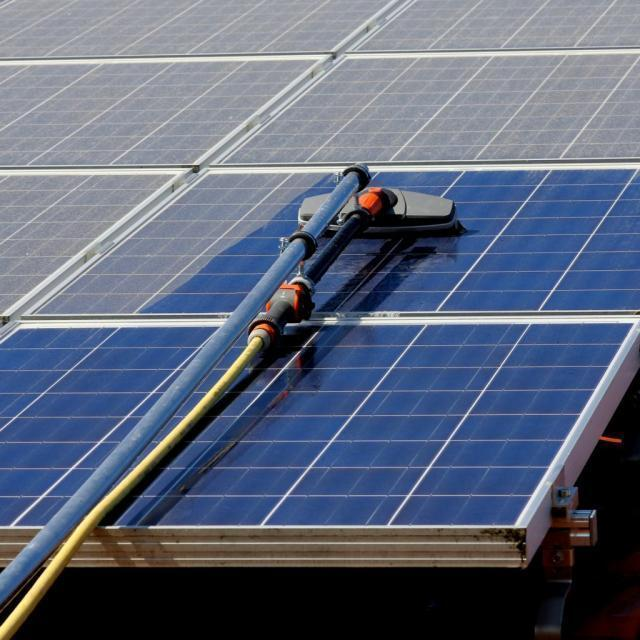Normal Solar Panel: (106, 318, 640, 526), (0, 315, 227, 528)
